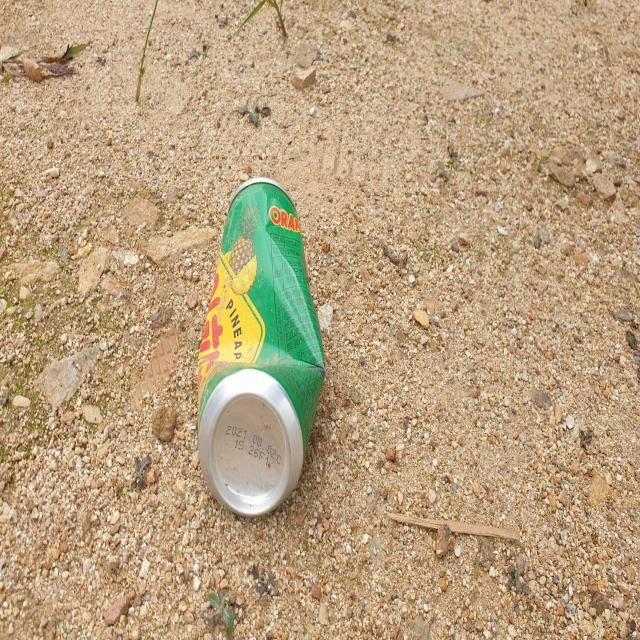can: (198, 177, 325, 516)
